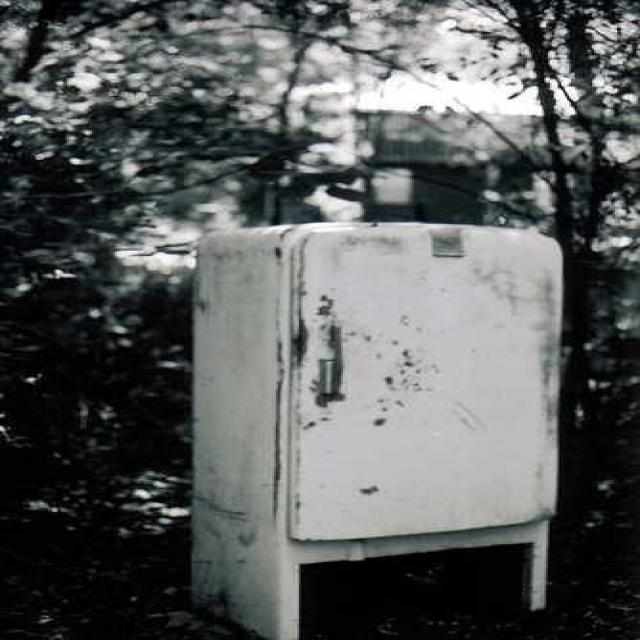refrigerator: (262, 221, 564, 623)
